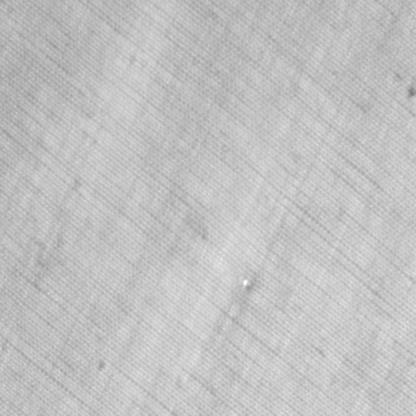hole: (238, 272, 257, 296)
